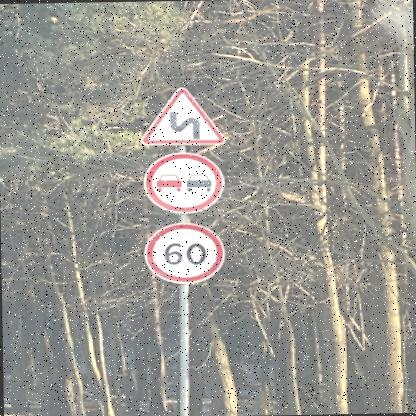speedlimit: (142, 221, 222, 282)
